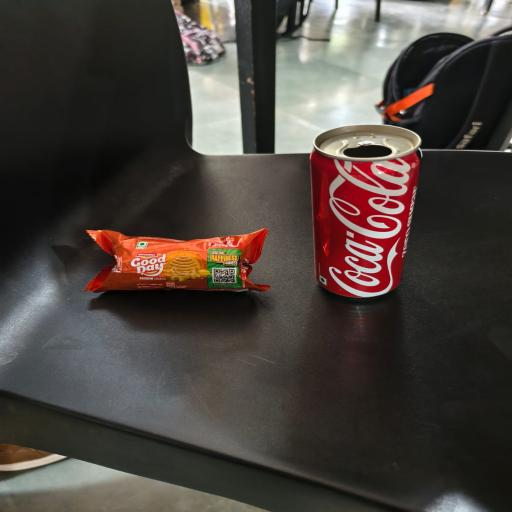coca_cola: (311, 125, 421, 299)
goodday: (84, 228, 268, 292)
